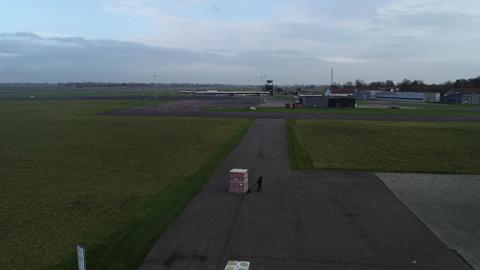RockwoolPallet: (229, 168, 247, 191)
